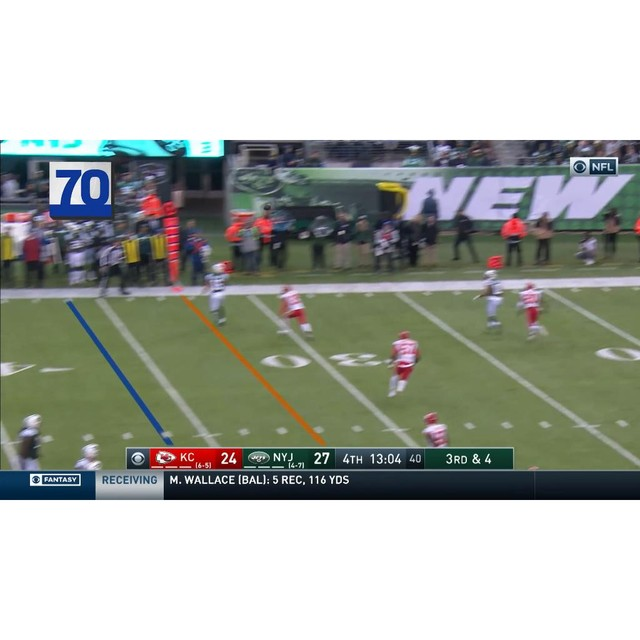american-football-player: (384, 330, 421, 397), (14, 412, 51, 472), (276, 284, 315, 340), (514, 280, 549, 342), (474, 268, 507, 333), (200, 261, 232, 327), (420, 411, 451, 448), (73, 442, 104, 470)
referee: (94, 238, 129, 299)
